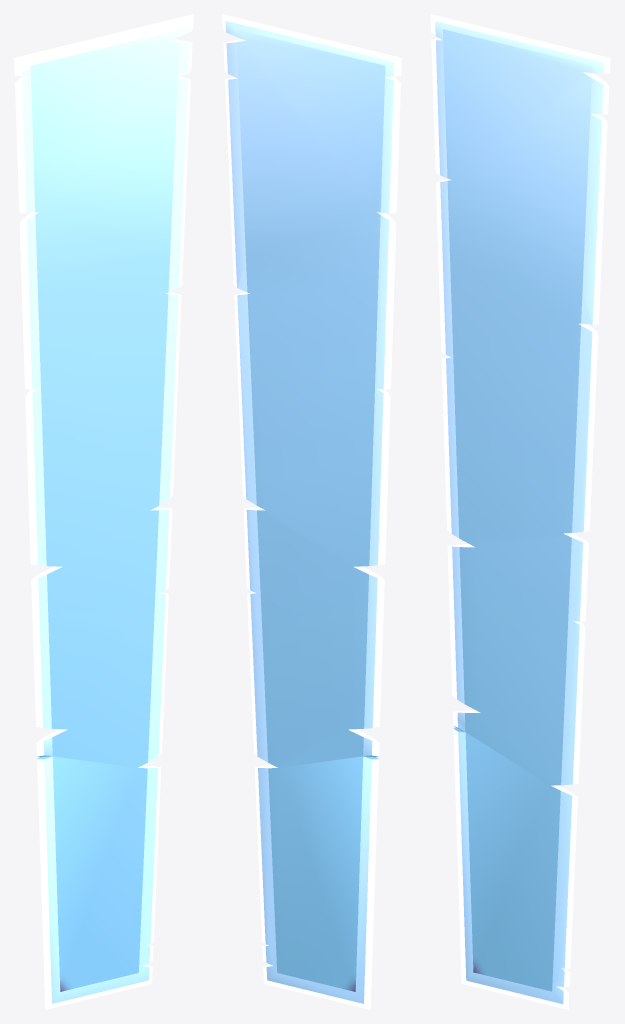
Rendered from steel_blade_scratched_058.glb.
3 views of the same model, side by side, from view 1: azimuth 30°, elevation 25°; view 2: azimuth 150°, elevation 25°; view 3: azimuth 330°, elevation 25° (orthographic).
Visible parts, largest first — view 1: steel_blade_scratched.058; view 2: steel_blade_scratched.058; view 3: steel_blade_scratched.058.
Boxes of the visible parts, x1,y1,x2,y2 form: steel_blade_scratched.058: [14, 14, 193, 1009]; steel_blade_scratched.058: [222, 14, 401, 1009]; steel_blade_scratched.058: [430, 14, 610, 1009].
Size of the model in its own units: 2.19 by 11.21 by 0.0882.
1 material, 1 textured.
